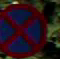No Stopping: (1, 4, 47, 56)
